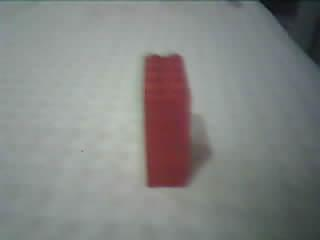lego: (141, 50, 192, 193)
